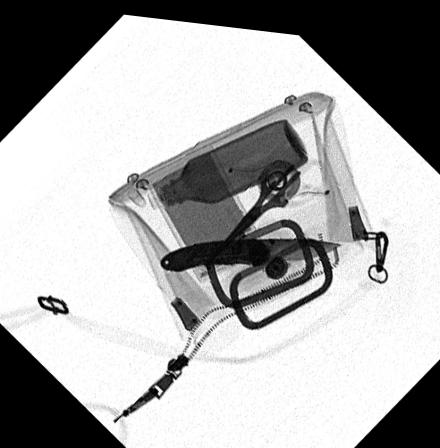Knife: (156, 231, 341, 268)
Powerbank: (144, 136, 265, 278)
Scissors: (201, 130, 324, 263)
